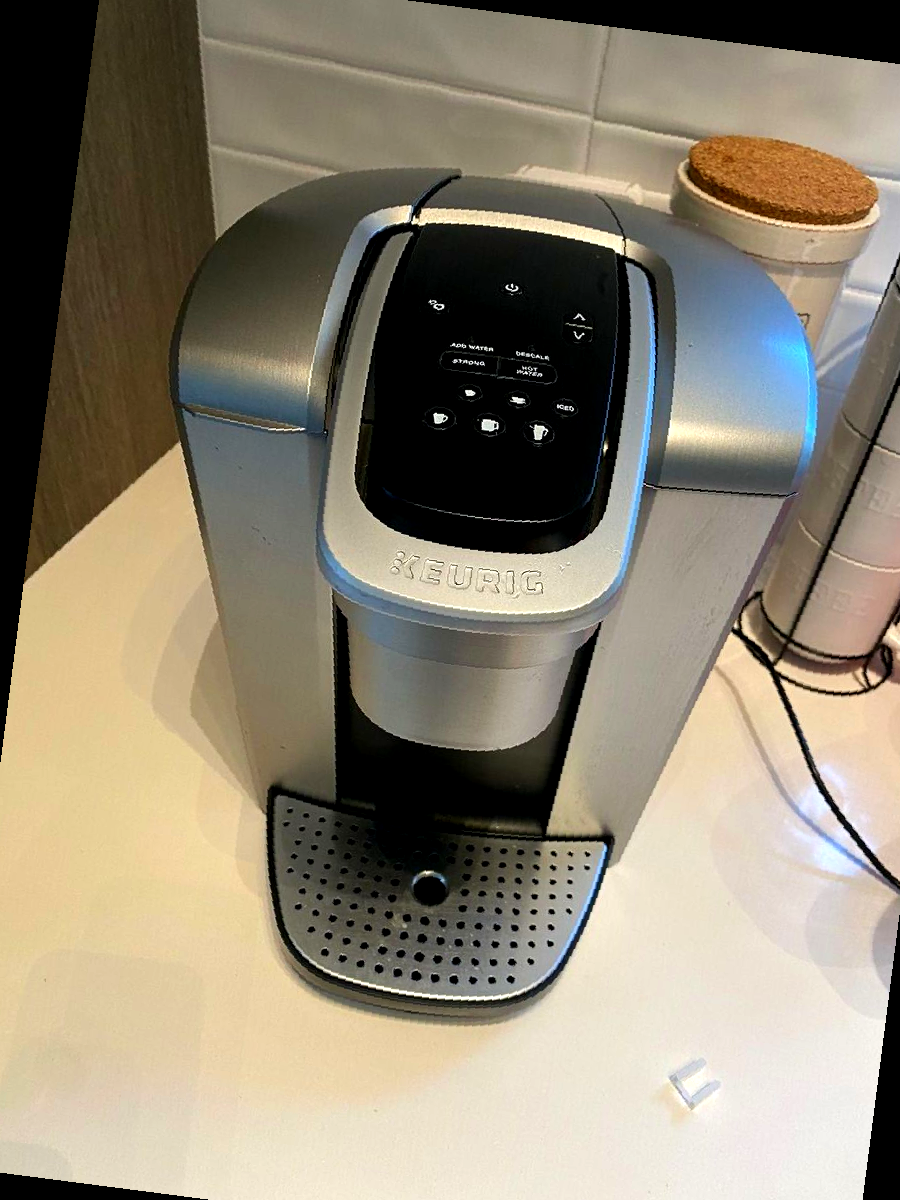10oz: (472, 412, 507, 438)
12oz: (520, 420, 554, 446)
4oz: (458, 380, 483, 402)
6oz: (506, 389, 531, 411)
8oz: (422, 406, 457, 432)
add_water: (437, 326, 502, 355)
descale: (500, 333, 565, 362)
hot: (497, 356, 562, 385)
iced: (553, 397, 578, 419)
power: (502, 279, 526, 299)
strong: (435, 348, 499, 378)
